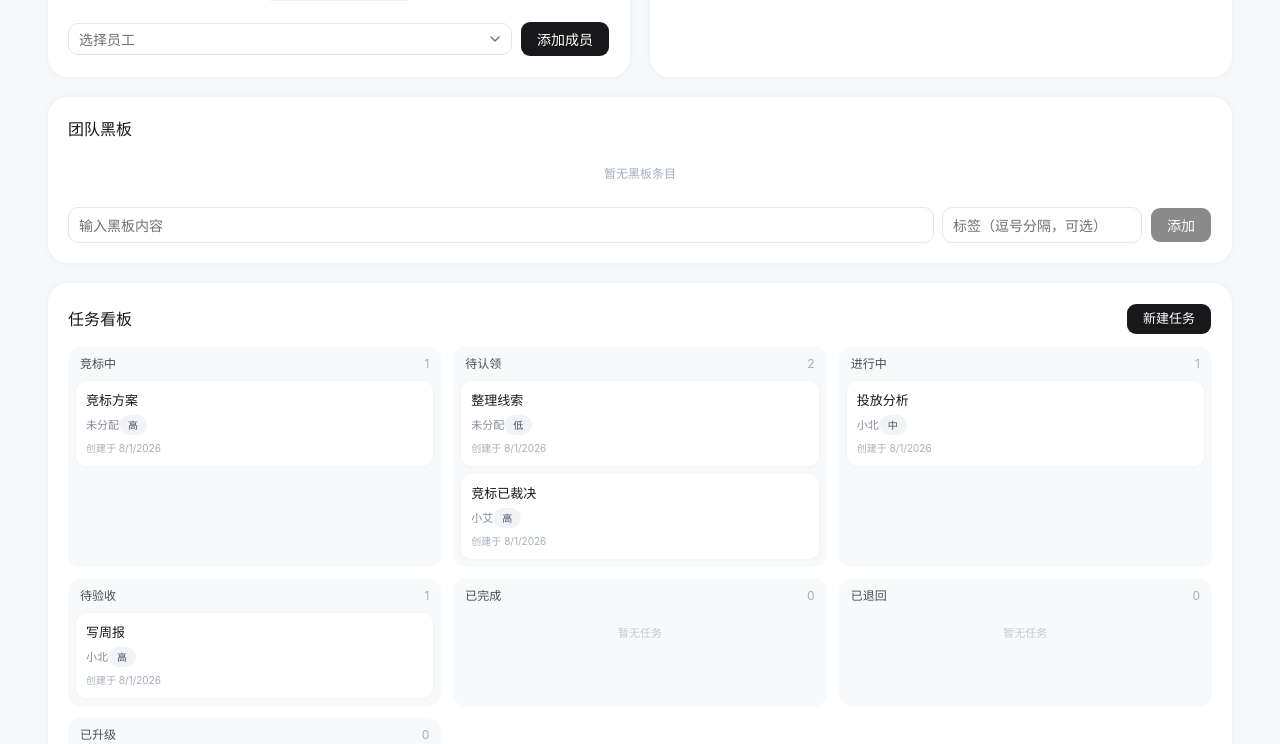
TeamDetailPage › marks eliminated candidates and shows full HP for legacy bids without scores
(page scrolled)
Click the text "竞标方案" at (112, 400), box top-left (86, 391), bottom-right (138, 409)
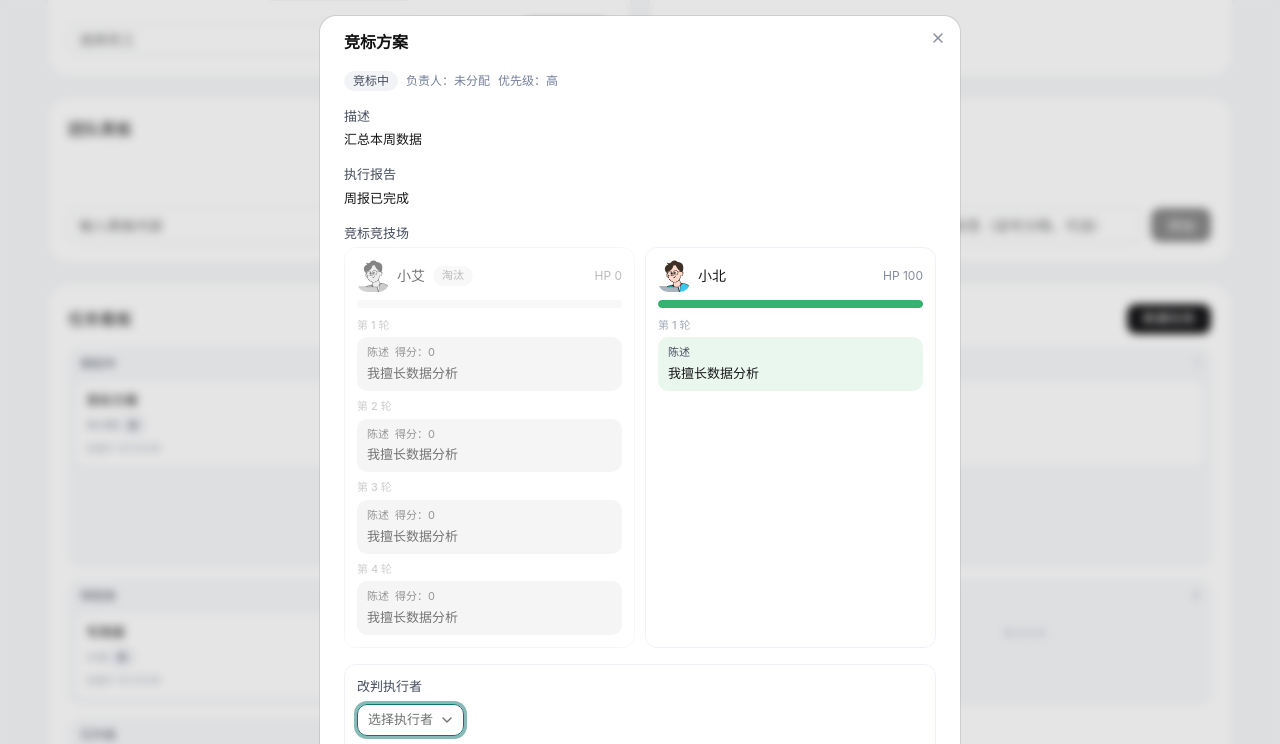
Check: the text "HP 0" is shown, box top-left (594, 267), bottom-right (622, 284)
Check: the icon "淘汰" is shown, box top-left (433, 266), bottom-right (473, 286)
Check: the text "HP 100" is shown, box top-left (883, 267), bottom-right (923, 284)
